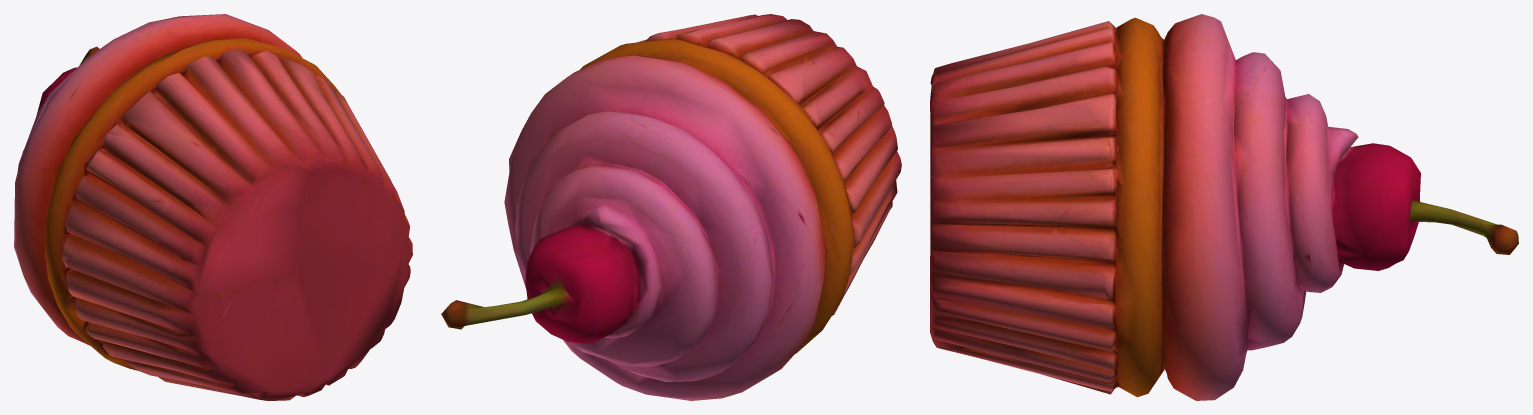
3 views of the same model, side by side, from view 1: azimuth 30°, elevation 25°; view 2: azimuth 150°, elevation 25°; view 3: azimuth 270°, elevation 25° (orthographic). The views are drawn at different scales.
Parts seen in each view (by area): view 1: material; view 2: material; view 3: material.
Boxes of the visible parts, <box> form: material: <box>14,14,412,400</box>; material: <box>441,14,901,400</box>; material: <box>930,14,1518,400</box>.
Bounding box in the file's own units: 0.6538 × 0.6558 × 1.
Materials: 1 (1 with a texture image).
